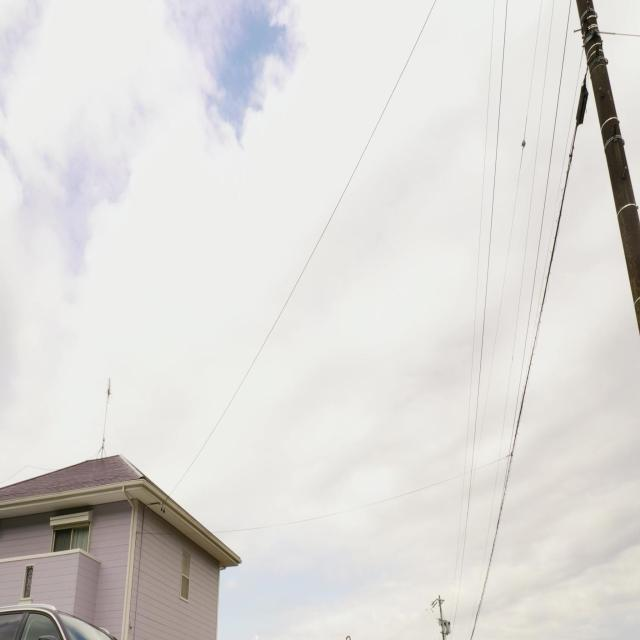Birds: (342, 625, 355, 639)
